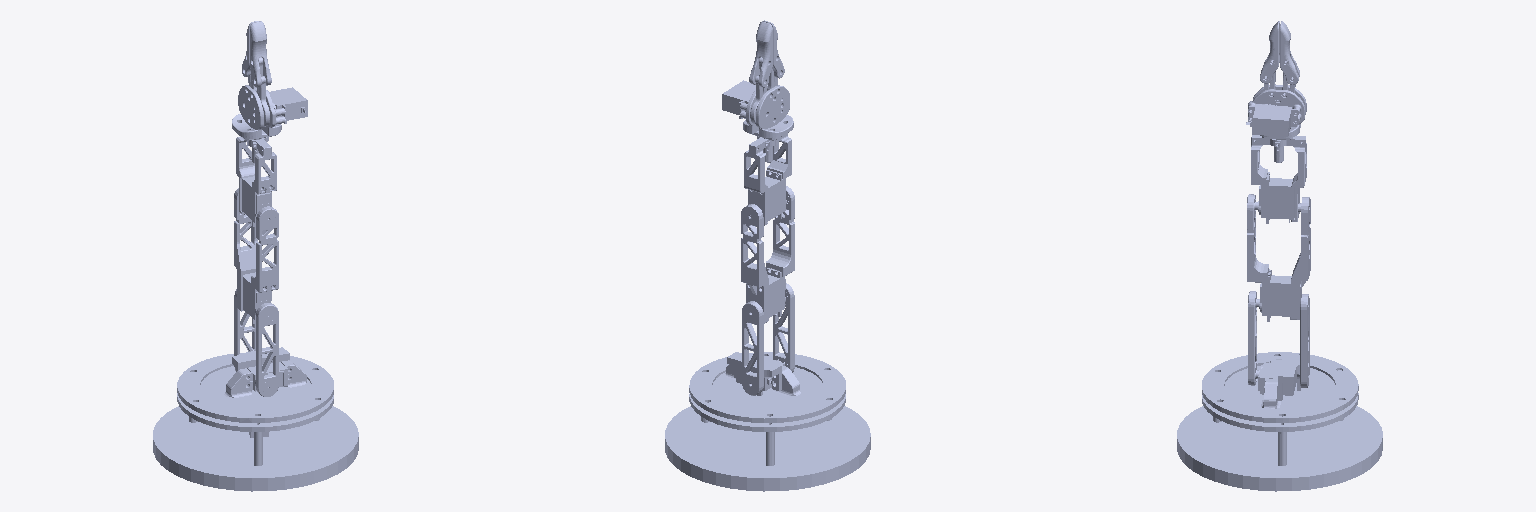
URDF robot description (arm_robot):
<?xml version="1.0" encoding="utf-8" ?>
<!-- This URDF was automatically created by SolidWorks to URDF Exporter! Originally created by [author] ([email redacted]) 
     Commit Version: 1.6.0-4-g7f85cfe  Build Version: 1.6.7995.38578
     For more information, please see http://wiki.ros.org/sw_urdf_exporter -->
<robot name="arm_robot">
    <link name="world" />
    <link name="base_link">
        <inertial>
            <origin xyz="-0.00013508 0.021215 0.0003347" rpy="0 0 0" />
            <mass value="0.85623" />
            <inertia ixx="0.0025365" ixy="-3.3034E-08" ixz="1.1719E-06" iyy="0.0050308" iyz="8.1853E-08" izz="0.0025341" />
        </inertial>
        <visual>
            <origin xyz="0 0 0" rpy="0 0 0" />
            <geometry>
                <mesh filename="package://arm_robot/meshes/base_link.STL" />
            </geometry>
            <material name="">
                <color rgba="0.79216 0.81961 0.93333 1" />
            </material>
        </visual>
        <collision>
            <origin xyz="0 0 0" rpy="0 0 0" />
            <geometry>
                <mesh filename="package://arm_robot/meshes/base_link.STL" />
            </geometry>
        </collision>
    </link>
    <joint name="base_joint" type="fixed">
        <parent link="world" />
        <child link="base_link" />
        <origin xyz="0.0 0.0 0.0" rpy="1.57 0 0" />
    </joint>
    <link name="link1">
        <inertial>
            <origin xyz="0.0001723 0.010717 0.0033" rpy="0 0 0" />
            <mass value="0.17559" />
            <inertia ixx="0.00017251" ixy="1.0427E-06" ixz="8.7306E-07" iyy="0.00031357" iyz="-2.0249E-06" izz="0.00015248" />
        </inertial>
        <visual>
            <origin xyz="0 0 0" rpy="0 0 0" />
            <geometry>
                <mesh filename="package://arm_robot/meshes/link1.STL" />
            </geometry>
            <material name="">
                <color rgba="0.79216 0.81961 0.93333 1" />
            </material>
        </visual>
        <collision>
            <origin xyz="0 0 0" rpy="0 0 0" />
            <geometry>
                <mesh filename="package://arm_robot/meshes/link1.STL" />
            </geometry>
        </collision>
    </link>
    <joint name="joint1" type="revolute">
        <origin xyz="0 0.0653 0" rpy="0 1.4664 0" />
        <parent link="base_link" />
        <child link="link1" />
        <axis xyz="0 1 0" />
        <limit lower="0" upper="3.142" effort="3" velocity="4" />
    </joint>
    <link name="link2">
        <inertial>
            <origin xyz="0.0028854 -0.037657 0.02116" rpy="0 0 0" />
            <mass value="0.029075" />
            <inertia ixx="3.2099E-05" ixy="-3.0364E-09" ixz="1.3417E-09" iyy="8.7678E-06" iyz="1.2187E-05" izz="2.3608E-05" />
        </inertial>
        <visual>
            <origin xyz="0 0 0" rpy="0 0 0" />
            <geometry>
                <mesh filename="package://arm_robot/meshes/link2.STL" />
            </geometry>
            <material name="">
                <color rgba="0.79216 0.81961 0.93333 1" />
            </material>
        </visual>
        <collision>
            <origin xyz="0 0 0" rpy="0 0 0" />
            <geometry>
                <mesh filename="package://arm_robot/meshes/link2.STL" />
            </geometry>
        </collision>
    </link>
    <joint name="joint2" type="revolute">
        <origin xyz="0 0.0229 0.00043961" rpy="0.51193 0 3.1416" />
        <parent link="link1" />
        <child link="link2" />
        <axis xyz="-1 0 0" />
        <limit lower="-1.57" upper="1.57" effort="3" velocity="4" />
    </joint>
    <link name="link3">
        <inertial>
            <origin xyz="0.039018 -1.5837E-05 0.00013351" rpy="0 0 0" />
            <mass value="0.077386" />
            <inertia ixx="8.8164E-06" ixy="6.2986E-08" ixz="-1.6053E-06" iyy="6.4568E-05" iyz="-4.7787E-10" izz="6.301E-05" />
        </inertial>
        <visual>
            <origin xyz="0 0 0" rpy="0 0 0" />
            <geometry>
                <mesh filename="package://arm_robot/meshes/link3.STL" />
            </geometry>
            <material name="">
                <color rgba="0.79216 0.81961 0.93333 1" />
            </material>
        </visual>
        <collision>
            <origin xyz="0 0 0" rpy="0 0 0" />
            <geometry>
                <mesh filename="package://arm_robot/meshes/link3.STL" />
            </geometry>
        </collision>
    </link>
    <joint name="joint3" type="revolute">
        <origin xyz="0 -0.075315 0.042319" rpy="1.5708 -0.51193 -1.5708" />
        <parent link="link2" />
        <child link="link3" />
        <axis xyz="0 0 1" />
        <limit lower="-1.57" upper="1.57" effort="3" velocity="4" />
    </joint>
    <link name="link4">
        <inertial>
            <origin xyz="0.075718 0.0078323 -0.0023511" rpy="0 0 0" />
            <mass value="0.12848" />
            <inertia ixx="3.7512E-05" ixy="-2.5961E-08" ixz="3.1447E-06" iyy="5.7704E-05" iyz="-9.6946E-09" izz="3.5473E-05" />
        </inertial>
        <visual>
            <origin xyz="0 0 0" rpy="0 0 0" />
            <geometry>
                <mesh filename="package://arm_robot/meshes/link4.STL" />
            </geometry>
            <material name="">
                <color rgba="0.79216 0.81961 0.93333 1" />
            </material>
        </visual>
        <collision>
            <origin xyz="0 0 0" rpy="0 0 0" />
            <geometry>
                <mesh filename="package://arm_robot/meshes/link4.STL" />
            </geometry>
        </collision>
    </link>
    <joint name="joint4" type="revolute">
        <origin xyz="0.1181 0 0" rpy="0 0 0" />
        <parent link="link3" />
        <child link="link4" />
        <axis xyz="0 0 1" />
        <limit lower="-1.57" upper="1.57" effort="3" velocity="4" />
    </joint>
    <link name="link5">
        <inertial>
            <origin xyz="0.027123 0.00037494 0.039116" rpy="0 0 0" />
            <mass value="0.01684" />
            <inertia ixx="4.0476E-06" ixy="-6.256E-08" ixz="-2.0534E-06" iyy="5.368E-06" iyz="-1.0318E-07" izz="1.9876E-06" />
        </inertial>
        <visual>
            <origin xyz="0 0 0" rpy="0 0 0" />
            <geometry>
                <mesh filename="package://arm_robot/meshes/link5.STL" />
            </geometry>
            <material name="">
                <color rgba="0.79216 0.81961 0.93333 1" />
            </material>
        </visual>
        <collision>
            <origin xyz="0 0 0" rpy="0 0 0" />
            <geometry>
                <mesh filename="package://arm_robot/meshes/link5.STL" />
            </geometry>
        </collision>
    </link>
    <joint name="joint5" type="revolute">
        <origin xyz="0.11993 0 0.012424" rpy="-3.1112 -0.89161 0" />
        <parent link="link4" />
        <child link="link5" />
        <axis xyz="0 1 0" />
        <limit lower="0" upper="1.57" effort="1" velocity="4" />
    </joint>
    <link name="link6">
        <inertial>
            <origin xyz="-0.023433 8.3598E-05 0.030623" rpy="0 0 0" />
            <mass value="0.021692" />
            <inertia ixx="4.4063E-06" ixy="7.7606E-08" ixz="2.5426E-06" iyy="6.5097E-06" iyz="-1.1332E-07" izz="2.7995E-06" />
        </inertial>
        <visual>
            <origin xyz="0 0 0" rpy="0 0 0" />
            <geometry>
                <mesh filename="package://arm_robot/meshes/link6.STL" />
            </geometry>
            <material name="">
                <color rgba="0.79216 0.81961 0.93333 1" />
            </material>
        </visual>
        <collision>
            <origin xyz="0 0 0" rpy="0 0 0" />
            <geometry>
                <mesh filename="package://arm_robot/meshes/link6.STL" />
            </geometry>
        </collision>
    </link>
    <joint name="joint6" type="revolute">
        <origin xyz="0.11993 0 -0.015576" rpy="0.030391 -0.81089 -3.1416" />
        <parent link="link4" />
        <child link="link6" />
        <axis xyz="0 1 0" />
        <limit lower="-1.57" upper="0" effort="1" velocity="4" />
    </joint>
    <!-- Virtual roll joint -->
    <joint name="virtual_roll_joint" type="revolute">
        <limit lower="-3.1415" upper="3.1415" effort="54.0" velocity="4" />
        <parent link="link4" />
        <child link="virtual_roll_link" />
        <axis xyz="1 0 0" />
        <origin xyz="0.2056 0.0 0.0" rpy="0 0 0" />
        <dynamics damping="0.0" friction="0.0" />
    </joint>
    <!-- Virtual roll link -->
    <link name="virtual_roll_link">
        <visual>
            <origin xyz="0 0 0" rpy="0 0 0" />
            <geometry>
                <box size="0.001 0.001 0.001" />
            </geometry>
        </visual>
        <inertial>
            <origin xyz="0 0 0" />
            <mass value="1.0e-03" />
            <inertia ixx="1.0e-03" ixy="0.0" ixz="0.0" iyy="1.0e-03" iyz="0.0" izz="1.0e-03" />
        </inertial>
    </link>
    <gazebo reference="virtual_roll_link">
        <plugin name="gazebo_ros_control" filename="libgazebo_ros_control.so">
            <robotNamespace>/</robotNamespace>
        </plugin>
    </gazebo>
    <!-- Virtual yaw joint -->
    <joint name="virtual_yaw_joint" type="revolute">
        <limit lower="-3.1415" upper="3.1415" effort="54.0" velocity="4" />
        <parent link="virtual_roll_link" />
        <child link="virtual_yaw_link" />
        <axis xyz="0 0 1" />
        <origin xyz="0.0 0.0 0.0" rpy="0 0 0" />
        <dynamics damping="0.0" friction="0.0" />
    </joint>
    <!-- Virtual yaw link -->
    <link name="virtual_yaw_link">
        <visual>
            <origin xyz="0 0 0" rpy="0 0 0" />
            <geometry>
                <box size="0.001 0.001 0.001" />
            </geometry>
        </visual>
        <inertial>
            <origin xyz="0 0 0" />
            <mass value="1.0e-03" />
            <inertia ixx="1.0e-03" ixy="0.0" ixz="0.0" iyy="1.0e-03" iyz="0.0" izz="1.0e-03" />
        </inertial>
    </link>
    <gazebo reference="virtual_yaw_link" />
    <!-- end effector joint -->
    <link name="gripper_center">
        <visual>
            <origin xyz="0 0 0" rpy="0 0 0" />
        </visual>
    </link>
    <joint name="gripper_center_joint" type="fixed">
        <parent link="virtual_yaw_link" />
        <child link="gripper_center" />
        <origin xyz="0.0 0.0 0.0" rpy="0.0 0.0 0.0" />
    </joint>
    <transmission name="link1_trans">
        <type>transmission_interface/SimpleTransmission</type>
        <joint name="joint1">
            <hardwareInterface>hardware_interface/PositionJointInterface</hardwareInterface>
        </joint>
        <actuator name="link1_motor">
            <hardwareInterface>hardware_interface/PositionJointInterface</hardwareInterface>
            <mechanicalReduction>1</mechanicalReduction>
        </actuator>
    </transmission>
    <transmission name="link2_trans">
        <type>transmission_interface/SimpleTransmission</type>
        <joint name="joint2">
            <hardwareInterface>hardware_interface/PositionJointInterface</hardwareInterface>
        </joint>
        <actuator name="link2_motor">
            <hardwareInterface>hardware_interface/PositionJointInterface</hardwareInterface>
            <mechanicalReduction>1</mechanicalReduction>
        </actuator>
    </transmission>
    <transmission name="link3_trans">
        <type>transmission_interface/SimpleTransmission</type>
        <joint name="joint3">
            <hardwareInterface>hardware_interface/PositionJointInterface</hardwareInterface>
        </joint>
        <actuator name="link3_motor">
            <hardwareInterface>hardware_interface/PositionJointInterface</hardwareInterface>
            <mechanicalReduction>1</mechanicalReduction>
        </actuator>
    </transmission>
    <transmission name="link4_trans">
        <type>transmission_interface/SimpleTransmission</type>
        <joint name="joint4">
            <hardwareInterface>hardware_interface/PositionJointInterface</hardwareInterface>
        </joint>
        <actuator name="link4_motor">
            <hardwareInterface>hardware_interface/PositionJointInterface</hardwareInterface>
            <mechanicalReduction>1</mechanicalReduction>
        </actuator>
    </transmission>
    <transmission name="link5_trans">
        <type>transmission_interface/SimpleTransmission</type>
        <joint name="joint5">
            <hardwareInterface>hardware_interface/PositionJointInterface</hardwareInterface>
        </joint>
        <actuator name="link5_motor">
            <hardwareInterface>hardware_interface/PositionJointInterface</hardwareInterface>
            <mechanicalReduction>1</mechanicalReduction>
        </actuator>
    </transmission>
    <transmission name="link6_trans">
        <type>transmission_interface/SimpleTransmission</type>
        <joint name="joint6">
            <hardwareInterface>hardware_interface/PositionJointInterface</hardwareInterface>
        </joint>
        <actuator name="link6_motor">
            <hardwareInterface>hardware_interface/PositionJointInterface</hardwareInterface>
            <mechanicalReduction>1</mechanicalReduction>
        </actuator>
    </transmission>
    <transmission name="virtual_roll_joint_trans">
        <type>transmission_interface/SimpleTransmission</type>
        <joint name="virtual_roll_joint">
            <hardwareInterface>hardware_interface/PositionJointInterface</hardwareInterface>
        </joint>
        <actuator name="virtual_roll_joint_motor">
            <hardwareInterface>hardware_interface/PositionJointInterface</hardwareInterface>
            <mechanicalReduction>1</mechanicalReduction>
        </actuator>
    </transmission>
    <transmission name="virtual_yaw_joint_trans">
        <type>transmission_interface/SimpleTransmission</type>
        <joint name="virtual_yaw_joint">
            <hardwareInterface>hardware_interface/PositionJointInterface</hardwareInterface>
        </joint>
        <actuator name="virtual_yaw_joint_motor">
            <hardwareInterface>hardware_interface/PositionJointInterface</hardwareInterface>
            <mechanicalReduction>1</mechanicalReduction>
        </actuator>
    </transmission>
    <gazebo>
        <plugin name="control" filename="libgazebo_ros_control.so">
            <robotNamespace>/</robotNamespace>
        </plugin>
    </gazebo>
    <gazebo reference="link1">
        <selfCollide>true</selfCollide>
    </gazebo>
    <gazebo reference="link2">
        <selfCollide>true</selfCollide>
    </gazebo>
    <gazebo reference="link3">
        <selfCollide>true</selfCollide>
    </gazebo>
    <gazebo reference="link4">
        <selfCollide>true</selfCollide>
    </gazebo>
    <gazebo reference="link5">
        <selfCollide>true</selfCollide>
    </gazebo>
    <gazebo reference="link6">
        <selfCollide>true</selfCollide>
    </gazebo>
</robot>

--- What the picture shows (computed from the rendered views, not written in the file) ---
The picture shows the robot from 3 angles, left to right: view 1: azimuth 30°, elevation 25°; view 2: azimuth 150°, elevation 25°; view 3: azimuth 270°, elevation 25°; orthographic projection.
Robot: arm_robot — 11 links, 10 joints (8 revolute, 2 fixed); root link world; default pose: all joints at 0.
Visible links, largest first — view 1: base_link, link4, link3, link1, link2, link6; view 2: base_link, link4, link3, link1, link2, link5; view 3: base_link, link4, link1, link3, link2, link5, link6.
Link boxes in pixels (x1,y1,x2,y2): base_link: [153, 353, 358, 491]; link4: [232, 85, 307, 226]; link3: [234, 188, 278, 323]; link1: [200, 347, 310, 408]; link2: [234, 289, 278, 396]; link6: [250, 22, 271, 126]; base_link: [665, 352, 870, 491]; link4: [722, 80, 793, 225]; link3: [741, 186, 794, 323]; link1: [712, 352, 822, 408]; link2: [742, 283, 794, 395]; link5: [749, 21, 772, 124]; base_link: [1177, 352, 1382, 491]; link4: [1246, 84, 1306, 223]; link1: [1224, 353, 1335, 408]; link3: [1247, 194, 1310, 321]; link2: [1248, 291, 1309, 387]; link5: [1280, 21, 1299, 94]; link6: [1259, 21, 1279, 104].
Bounding box of the posed robot: 0.2268 × 0.227 × 0.5172 m (x, y, z).
Meshes: 7 distinct files referenced, 7 mesh visuals loaded (7 binary STL).
